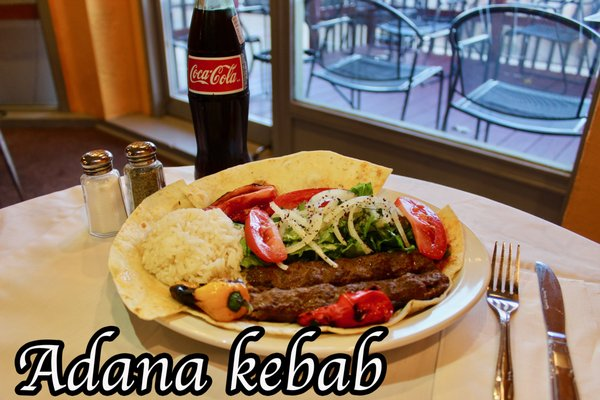burger: (487, 238, 522, 398)
sandwich: (534, 261, 581, 399)
